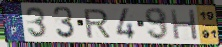3: (52, 6, 77, 40), (25, 6, 48, 39)
4: (115, 7, 137, 41)
9: (144, 7, 169, 42)
H: (169, 8, 200, 42)
R: (82, 8, 112, 39)
